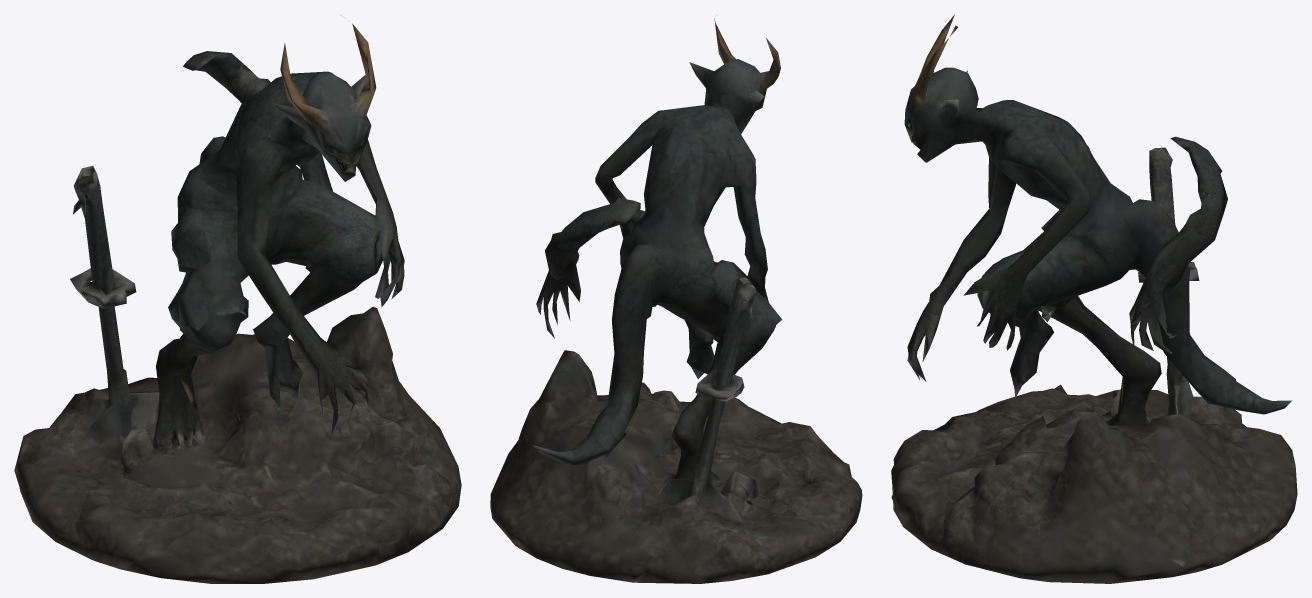
The model's file is alien-escarbador.glb.
3 views of the same model, side by side, from view 1: azimuth 30°, elevation 25°; view 2: azimuth 150°, elevation 25°; view 3: azimuth 270°, elevation 25° (orthographic). The views are drawn at different scales.
Bounding box in the file's own units: 1.43 × 1.88 × 1.43.
1 material, 1 textured.
